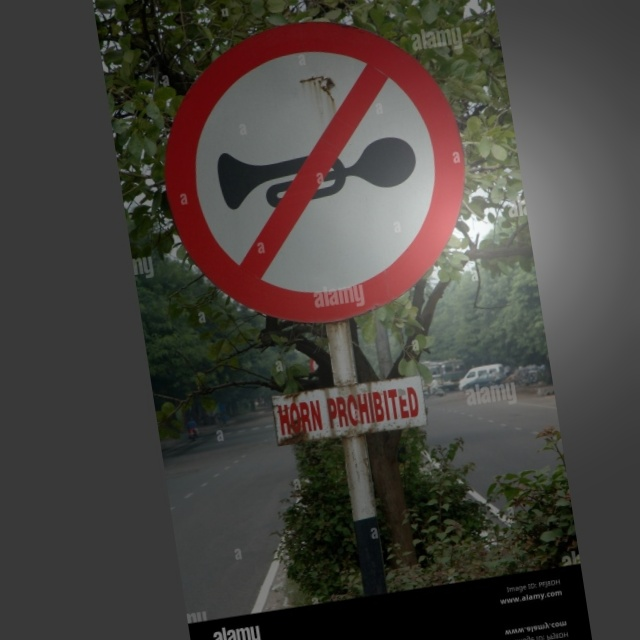Horn_Prohibited: (154, 5, 483, 334)
